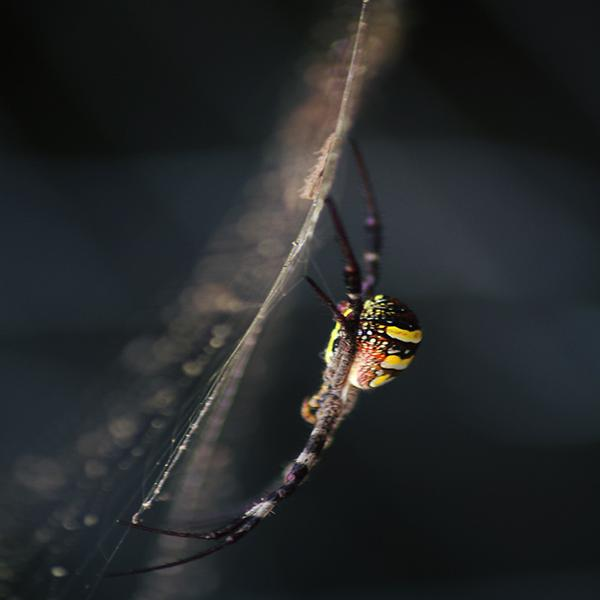St Andrew's Cross Spider: (125, 136, 424, 576)
